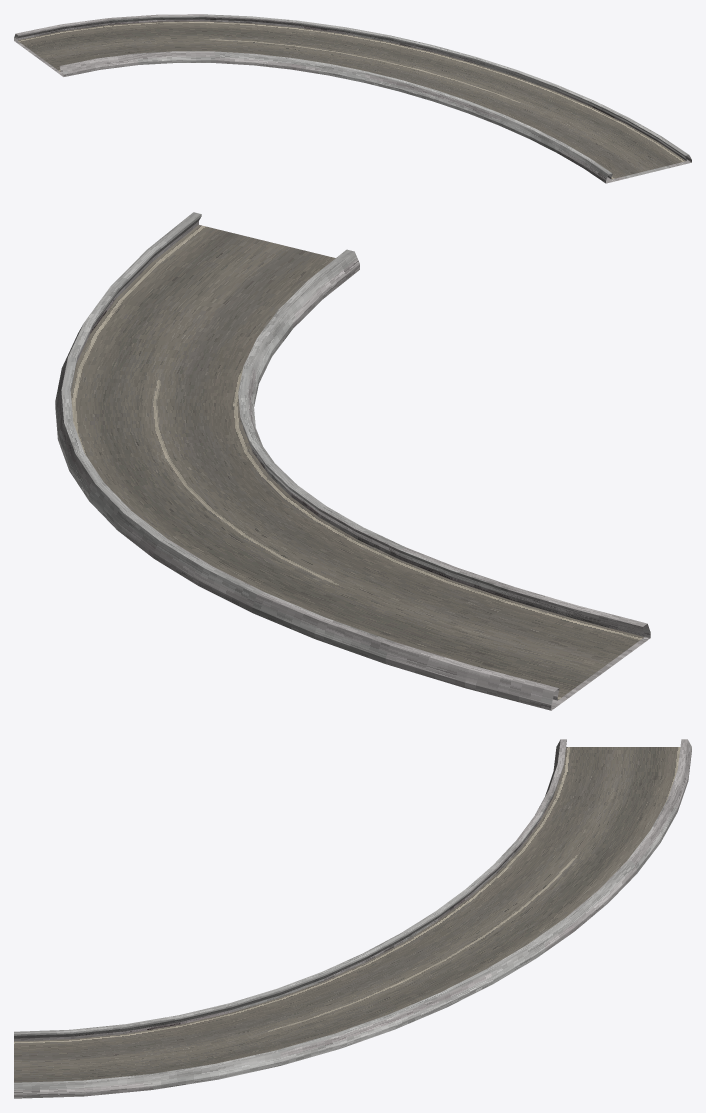
The model's file is road-Turn-Flat-Flat-Up2-Left-Size5.glb.
3 renders of one model, top to bottom at view 1: azimuth 30°, elevation 25°; view 2: azimuth 150°, elevation 25°; view 3: azimuth 270°, elevation 25°, orthographic. The views are drawn at different scales.
Visible parts, largest first — view 1: road-Turn-Flat-Flat-Up2-Left-Size5; view 2: road-Turn-Flat-Flat-Up2-Left-Size5; view 3: road-Turn-Flat-Flat-Up2-Left-Size5.
Boxes of the visible parts, <box> form: road-Turn-Flat-Flat-Up2-Left-Size5: <box>14,14,691,183</box>; road-Turn-Flat-Flat-Up2-Left-Size5: <box>55,212,650,710</box>; road-Turn-Flat-Flat-Up2-Left-Size5: <box>14,739,691,1098</box>.
Size of the model in its own units: 5 by 0.5938 by 5.
Materials: 2 (2 with a texture image).
